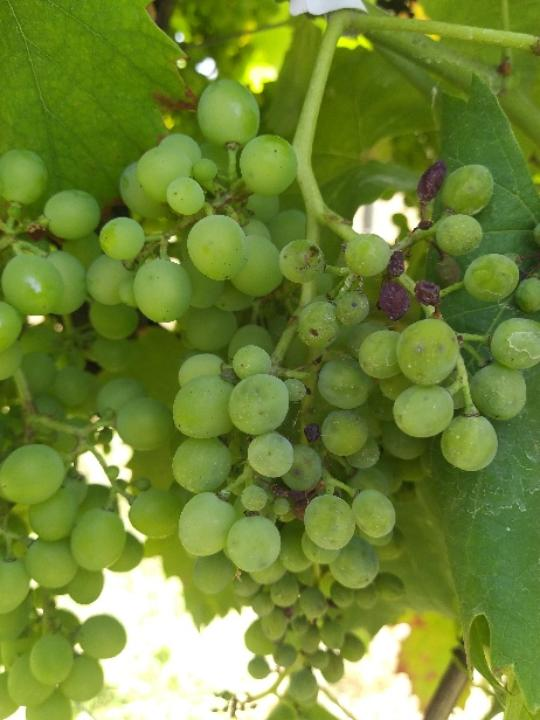grape: (86, 75, 540, 601)
